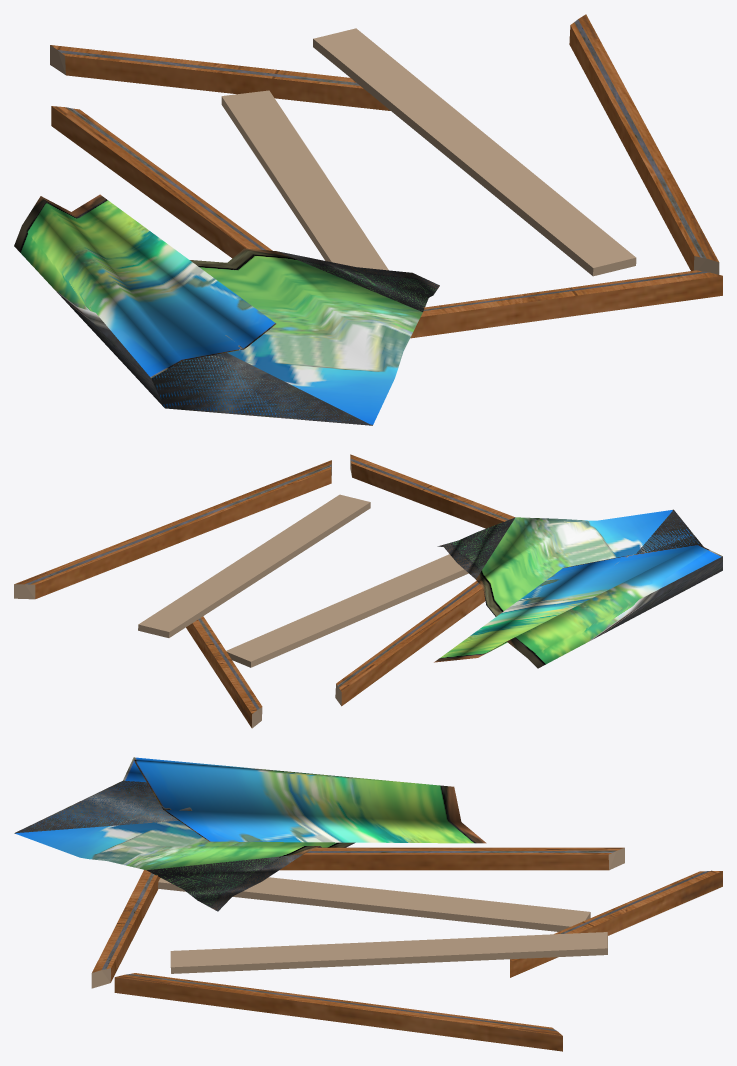
Rendered from M_Home_Garden_Painting_018.fbx.
The picture shows the model from 3 angles, top to bottom: view 1: azimuth 30°, elevation 25°; view 2: azimuth 150°, elevation 25°; view 3: azimuth 270°, elevation 25°; orthographic projection. The views are drawn at different scales.
Parts seen in each view (by area): view 1: M_Home_Garden_Painting_018; view 2: M_Home_Garden_Painting_018; view 3: M_Home_Garden_Painting_018.
Boxes of the visible parts, x1=… form: M_Home_Garden_Painting_018: x1=14, y1=14, x2=722, y2=425; M_Home_Garden_Painting_018: x1=14, y1=454, x2=722, y2=728; M_Home_Garden_Painting_018: x1=14, y1=757, x2=722, y2=1051.
Size of the model in its own units: 183 by 9.83 by 203.
